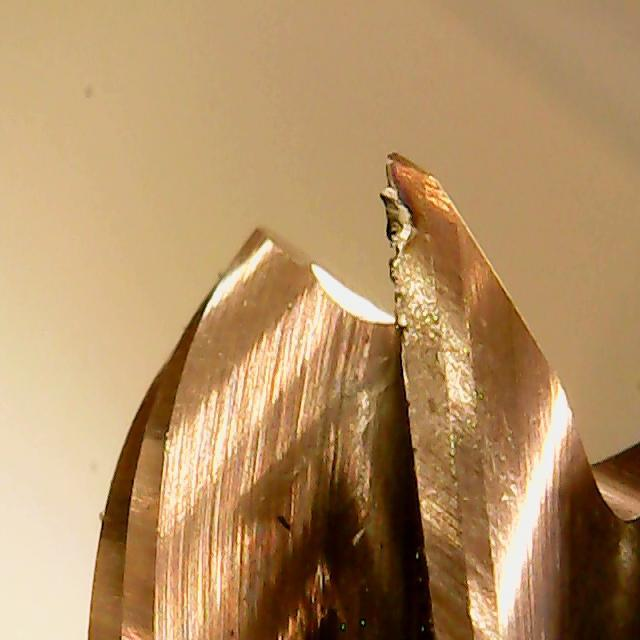Tool-wear-class-1: (375, 154, 476, 383)
